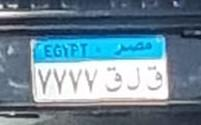7: (65, 65, 85, 93), (82, 65, 99, 92), (52, 65, 67, 95), (40, 64, 51, 91)
ق: (103, 64, 124, 93), (145, 64, 163, 95)
ل: (123, 61, 142, 90)
